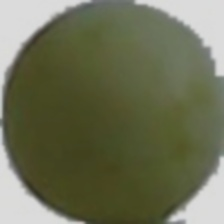grapes: (22, 35, 185, 220)
